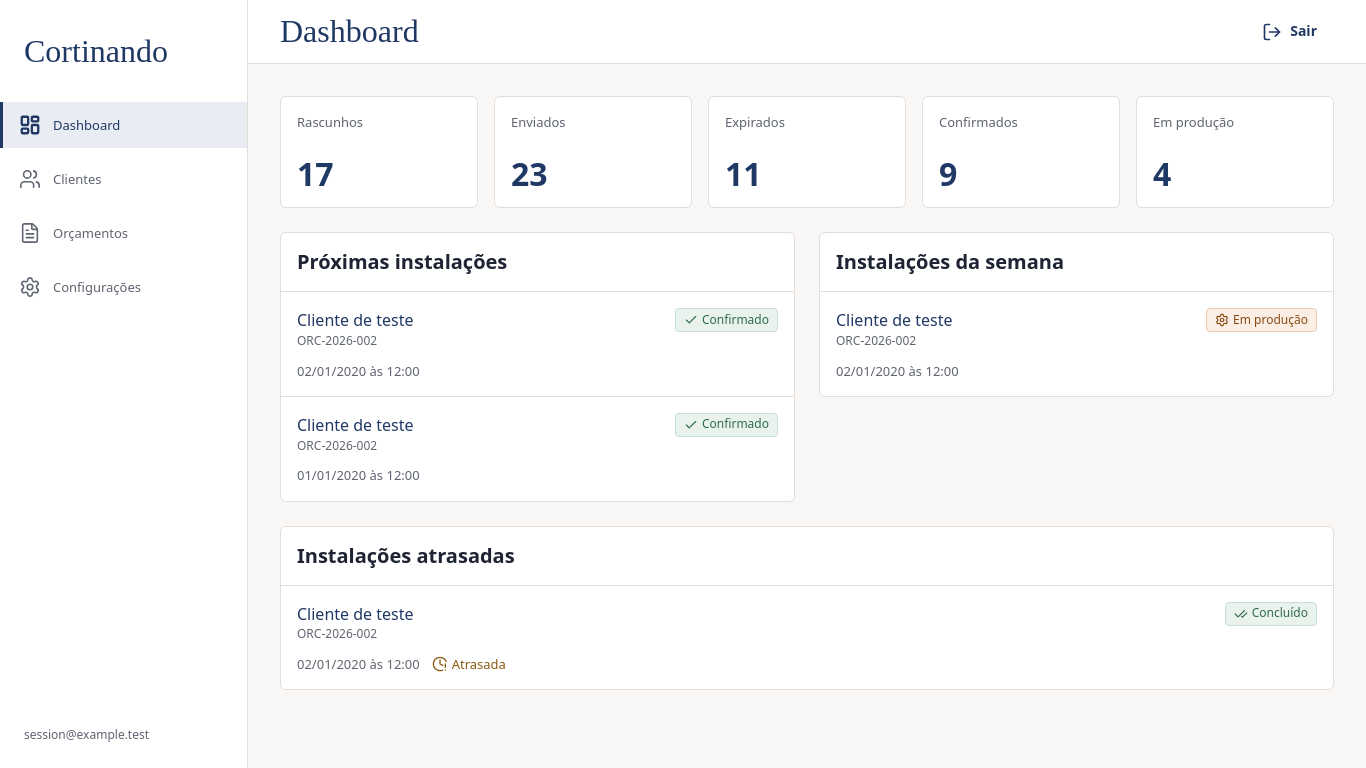
navigates from Em produção to its exact filter
Click the link "Em produção 4" at (1235, 152), box [1136,96,1334,208]
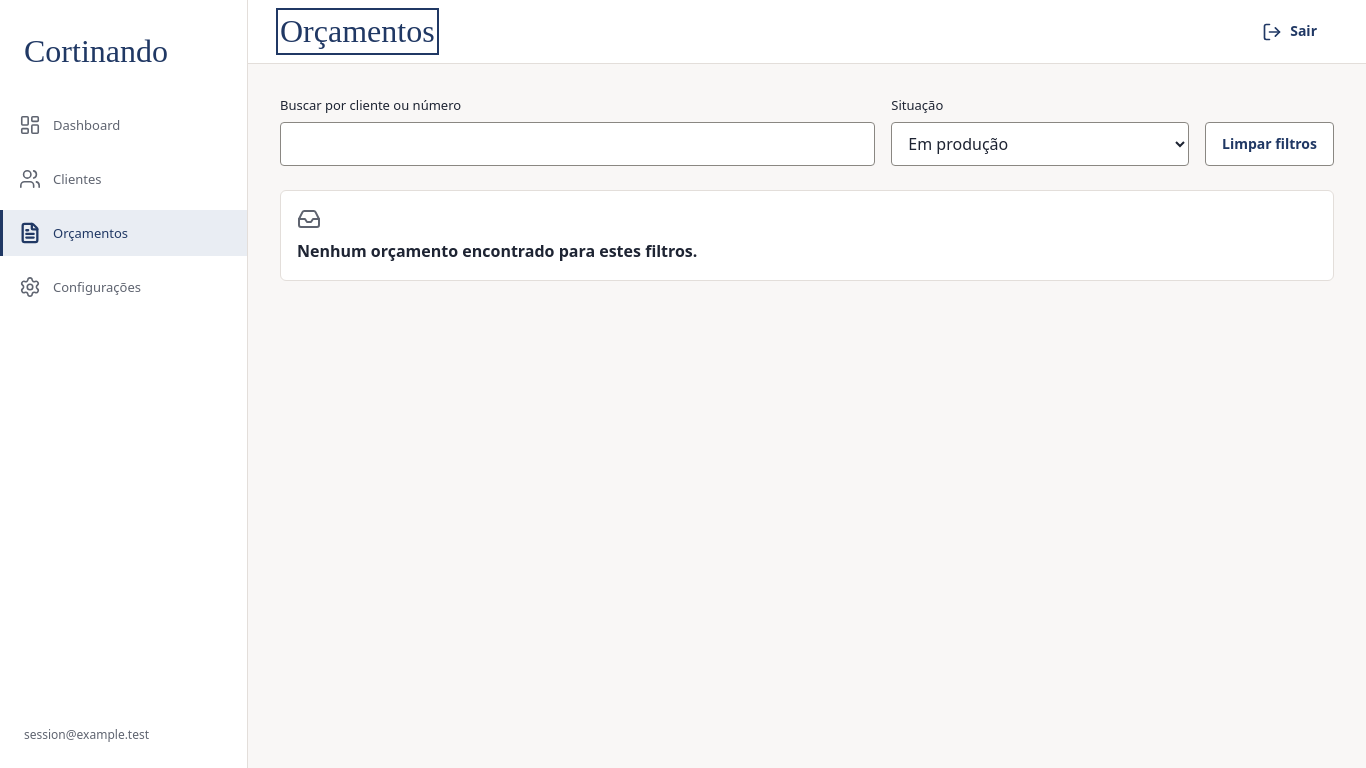
Result: the heading "Orçamentos" is shown at [280,12,435,51]
